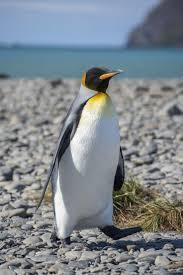king: (35, 55, 150, 258)
